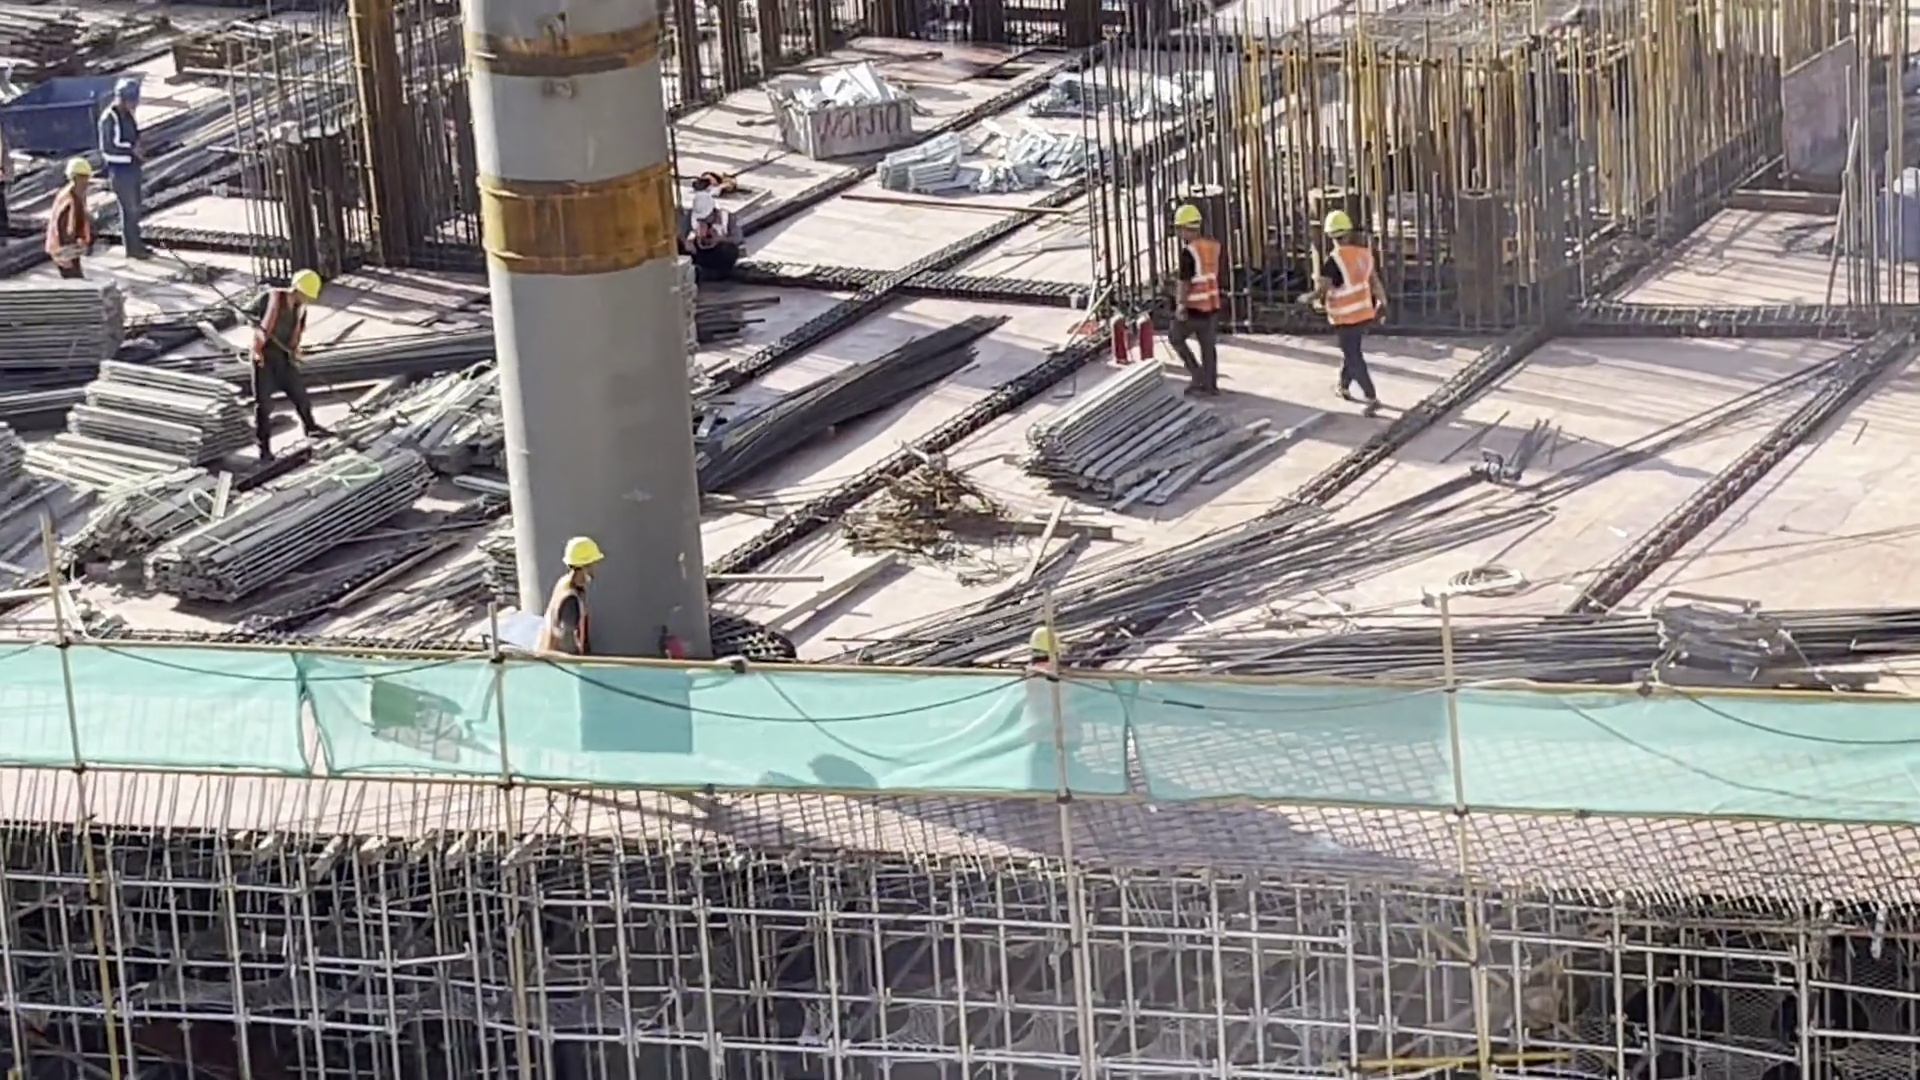helmet: (555, 530, 603, 572), (682, 186, 726, 220), (1170, 194, 1207, 230), (1326, 209, 1354, 252), (292, 261, 318, 295), (114, 76, 145, 104), (62, 156, 93, 183)
person: (1295, 197, 1393, 420), (1141, 206, 1245, 402), (237, 248, 325, 469), (86, 67, 149, 253), (522, 520, 599, 665), (37, 158, 101, 286), (670, 190, 760, 256)
vest: (1319, 245, 1377, 326), (254, 294, 306, 372), (534, 580, 592, 638), (1175, 246, 1217, 317), (44, 193, 86, 248), (107, 106, 137, 161)
